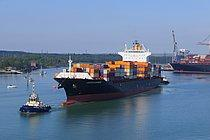Ship: (51, 37, 172, 109)
